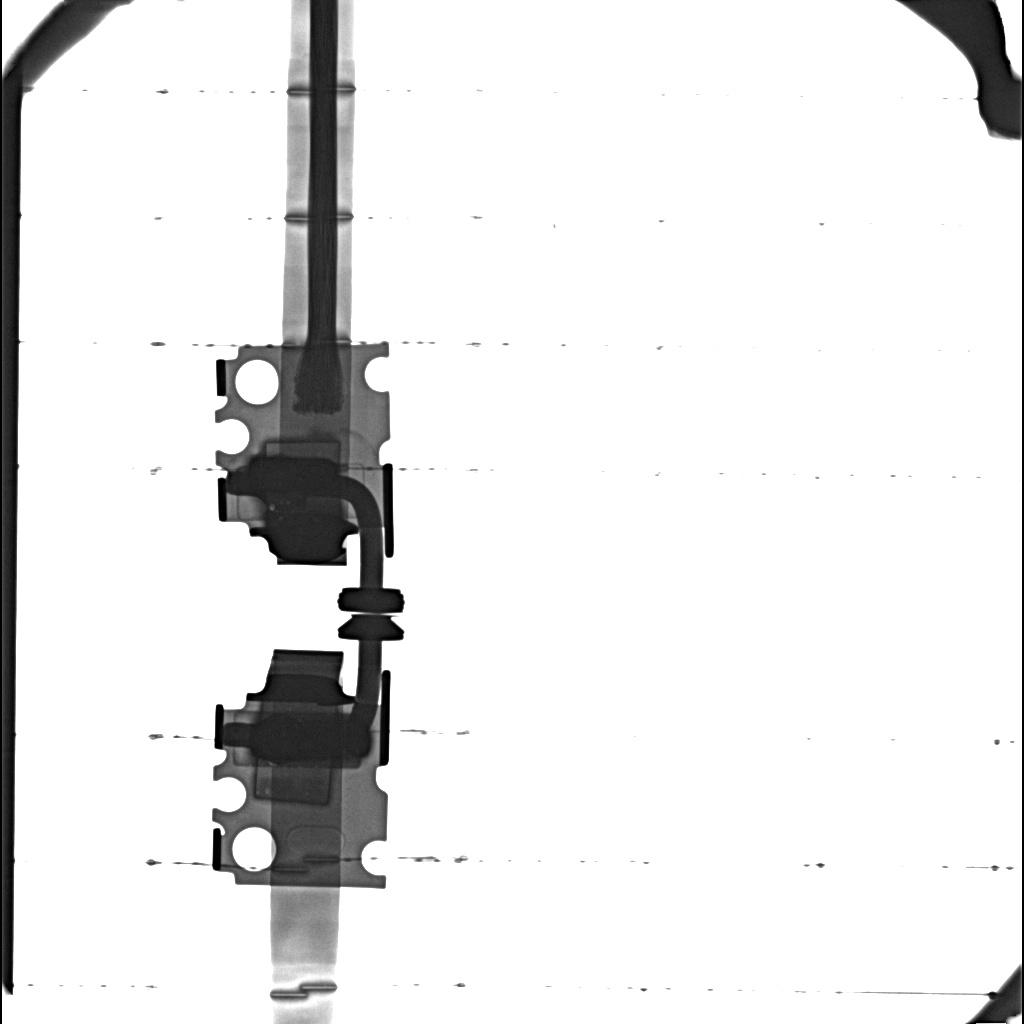defect: (252, 715, 369, 761), (253, 760, 333, 806), (250, 456, 337, 495), (263, 438, 341, 463)
